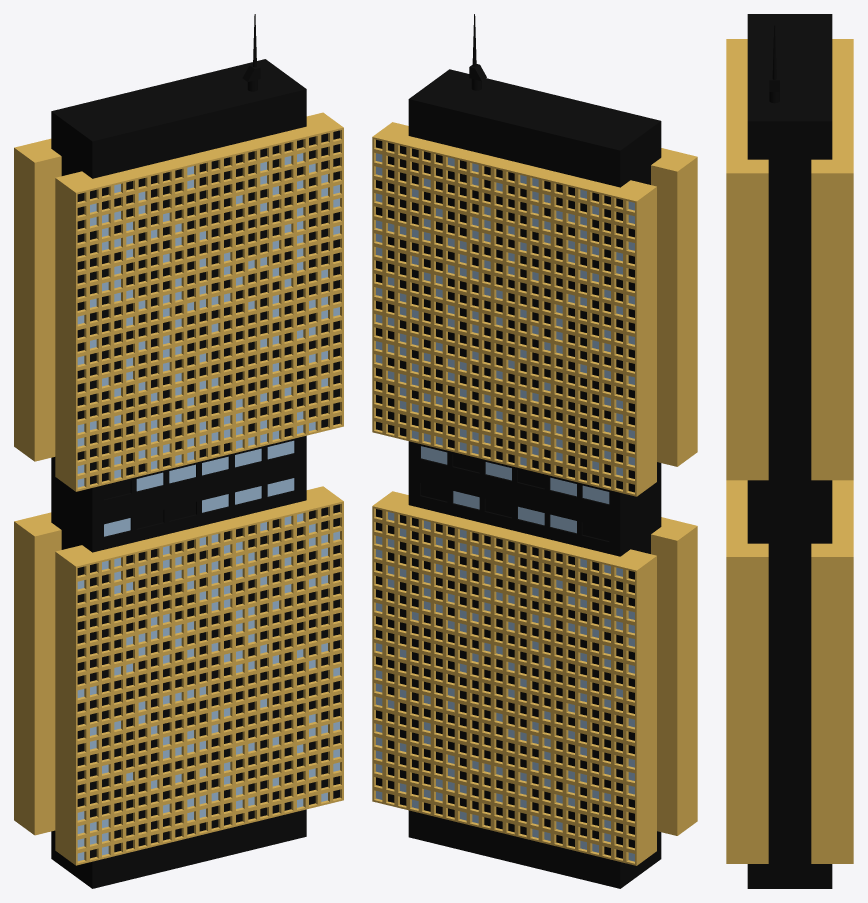
The model's file is LiamTower.fbx.
3 views of the same model, side by side, from view 1: azimuth 30°, elevation 25°; view 2: azimuth 150°, elevation 25°; view 3: azimuth 270°, elevation 25° (orthographic). The views are drawn at different scales.
Parts seen in each view (by area): view 1: Cylinder; view 2: Cylinder; view 3: Cylinder.
Boxes of the visible parts, x1,y1,x2,y2 form: Cylinder: (14, 14, 343, 888); Cylinder: (372, 14, 697, 888); Cylinder: (726, 14, 853, 888).
Bounding box in the file's own units: 375 × 1100 × 150.
